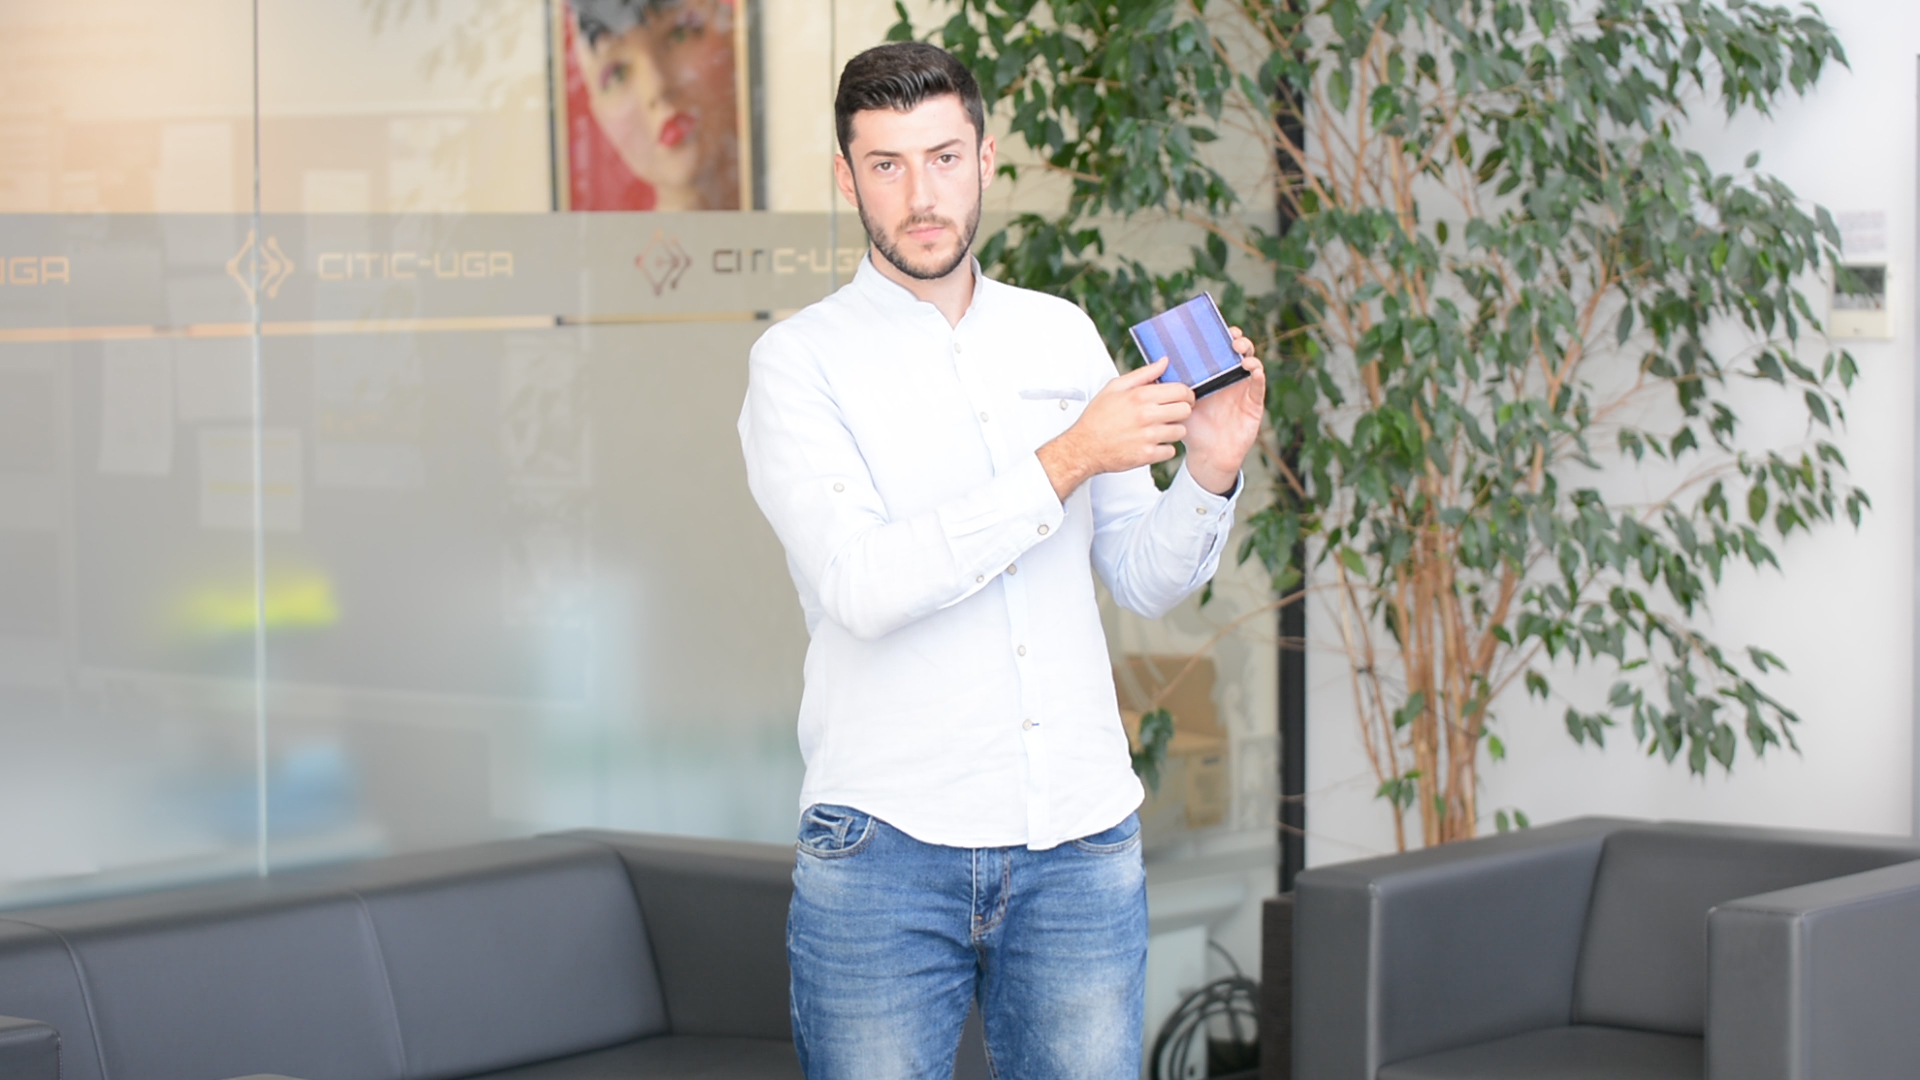monedero: (1124, 291, 1251, 398)
